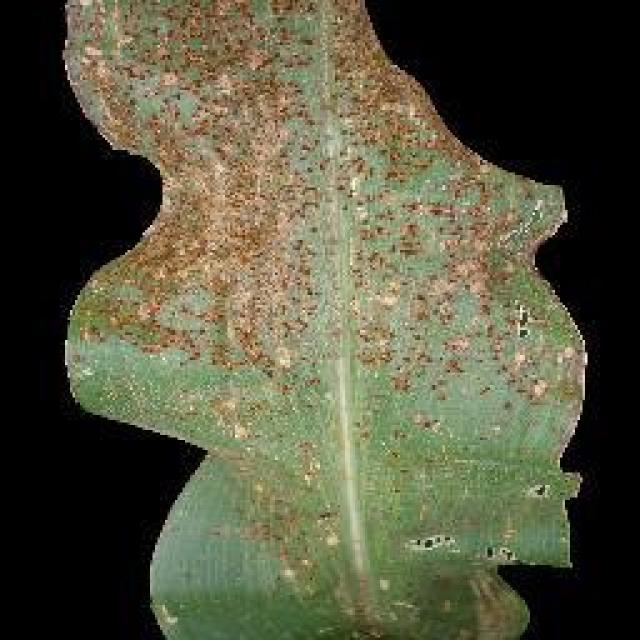Corn Common Rust: (104, 37, 528, 445)
